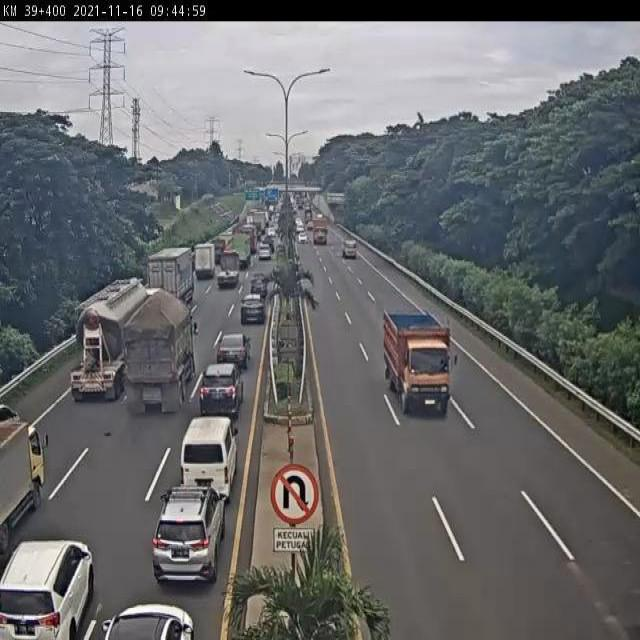car: (152, 488, 225, 581), (200, 361, 244, 415), (215, 333, 248, 368), (241, 292, 268, 325), (248, 276, 266, 301)
small bus: (179, 420, 237, 497)
truck-l-: (125, 298, 195, 411), (145, 250, 195, 310), (224, 236, 249, 272)
truck-m-: (383, 310, 452, 418), (213, 251, 242, 293), (190, 241, 215, 283)
truck-xl-: (71, 280, 161, 400)
